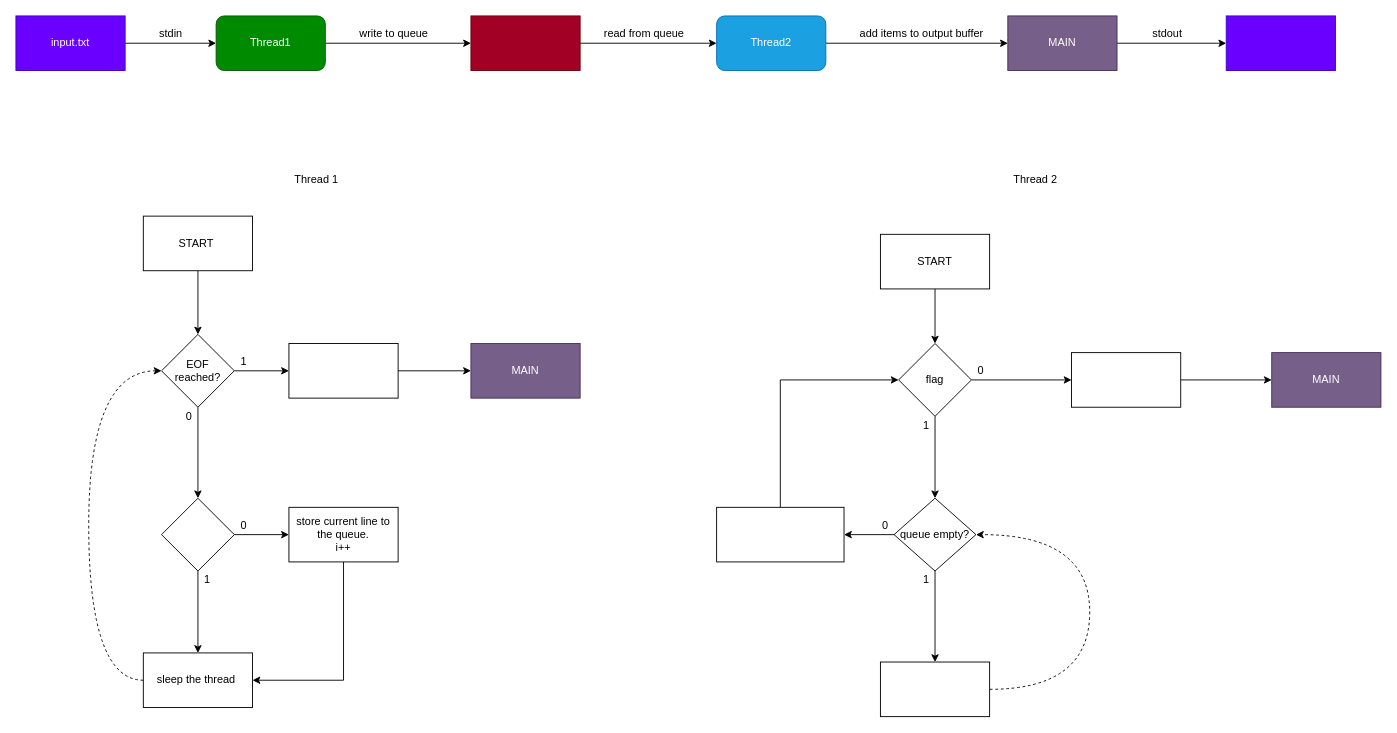
The diagram is 1397 pixels wide and 733 high, and some of its shapes have lost their labels. The centre of each missing label's shape, as x and y in pixels:
break loop exit Thread 2: (1126,379)
flag = 0 exit Thread 1: (343,370)
Output.txt: (1280,43)
queue full?: (197,534)
queue[userInput] (FIFO): (525,43)
read from the queue add item to output buffer i--: (780,534)
Wait for an item: (935,689)
